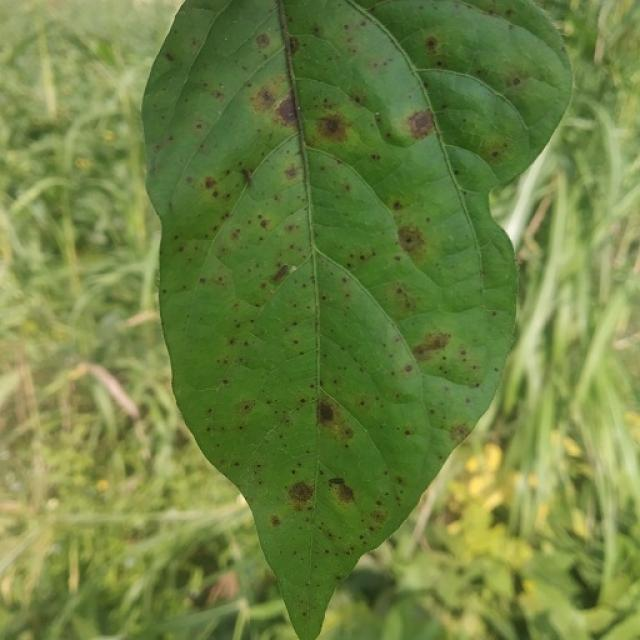Anthracnose: (376, 277, 435, 320), (309, 393, 339, 429), (411, 331, 449, 359), (396, 222, 428, 255), (315, 112, 350, 141), (274, 94, 301, 125), (480, 138, 510, 164), (327, 477, 355, 504), (288, 480, 315, 507), (411, 110, 434, 135), (317, 522, 339, 542), (449, 424, 470, 444), (234, 399, 256, 417), (272, 264, 290, 283), (349, 90, 368, 107), (369, 509, 386, 527), (241, 167, 254, 187), (284, 164, 299, 180), (255, 33, 270, 48), (424, 36, 439, 50), (288, 36, 300, 52), (204, 177, 217, 190), (270, 515, 282, 527), (259, 218, 271, 230), (211, 89, 224, 100), (285, 223, 298, 233), (164, 51, 175, 62), (231, 228, 241, 240), (392, 200, 403, 210), (512, 76, 521, 86), (404, 364, 413, 373), (371, 154, 380, 162), (374, 113, 382, 122), (228, 338, 236, 345), (302, 609, 309, 617), (335, 573, 343, 580), (404, 429, 411, 436), (299, 397, 306, 404), (199, 277, 206, 284), (375, 500, 382, 507), (341, 277, 348, 284), (473, 381, 480, 388), (343, 24, 350, 31), (394, 255, 402, 261), (453, 169, 459, 176), (233, 461, 240, 467), (222, 379, 228, 385), (243, 341, 249, 347), (196, 123, 202, 129), (359, 534, 365, 540), (305, 581, 311, 587), (293, 339, 299, 344), (291, 469, 296, 474), (297, 462, 302, 467), (494, 367, 499, 372)
Blackgram: (144, 0, 571, 639)
